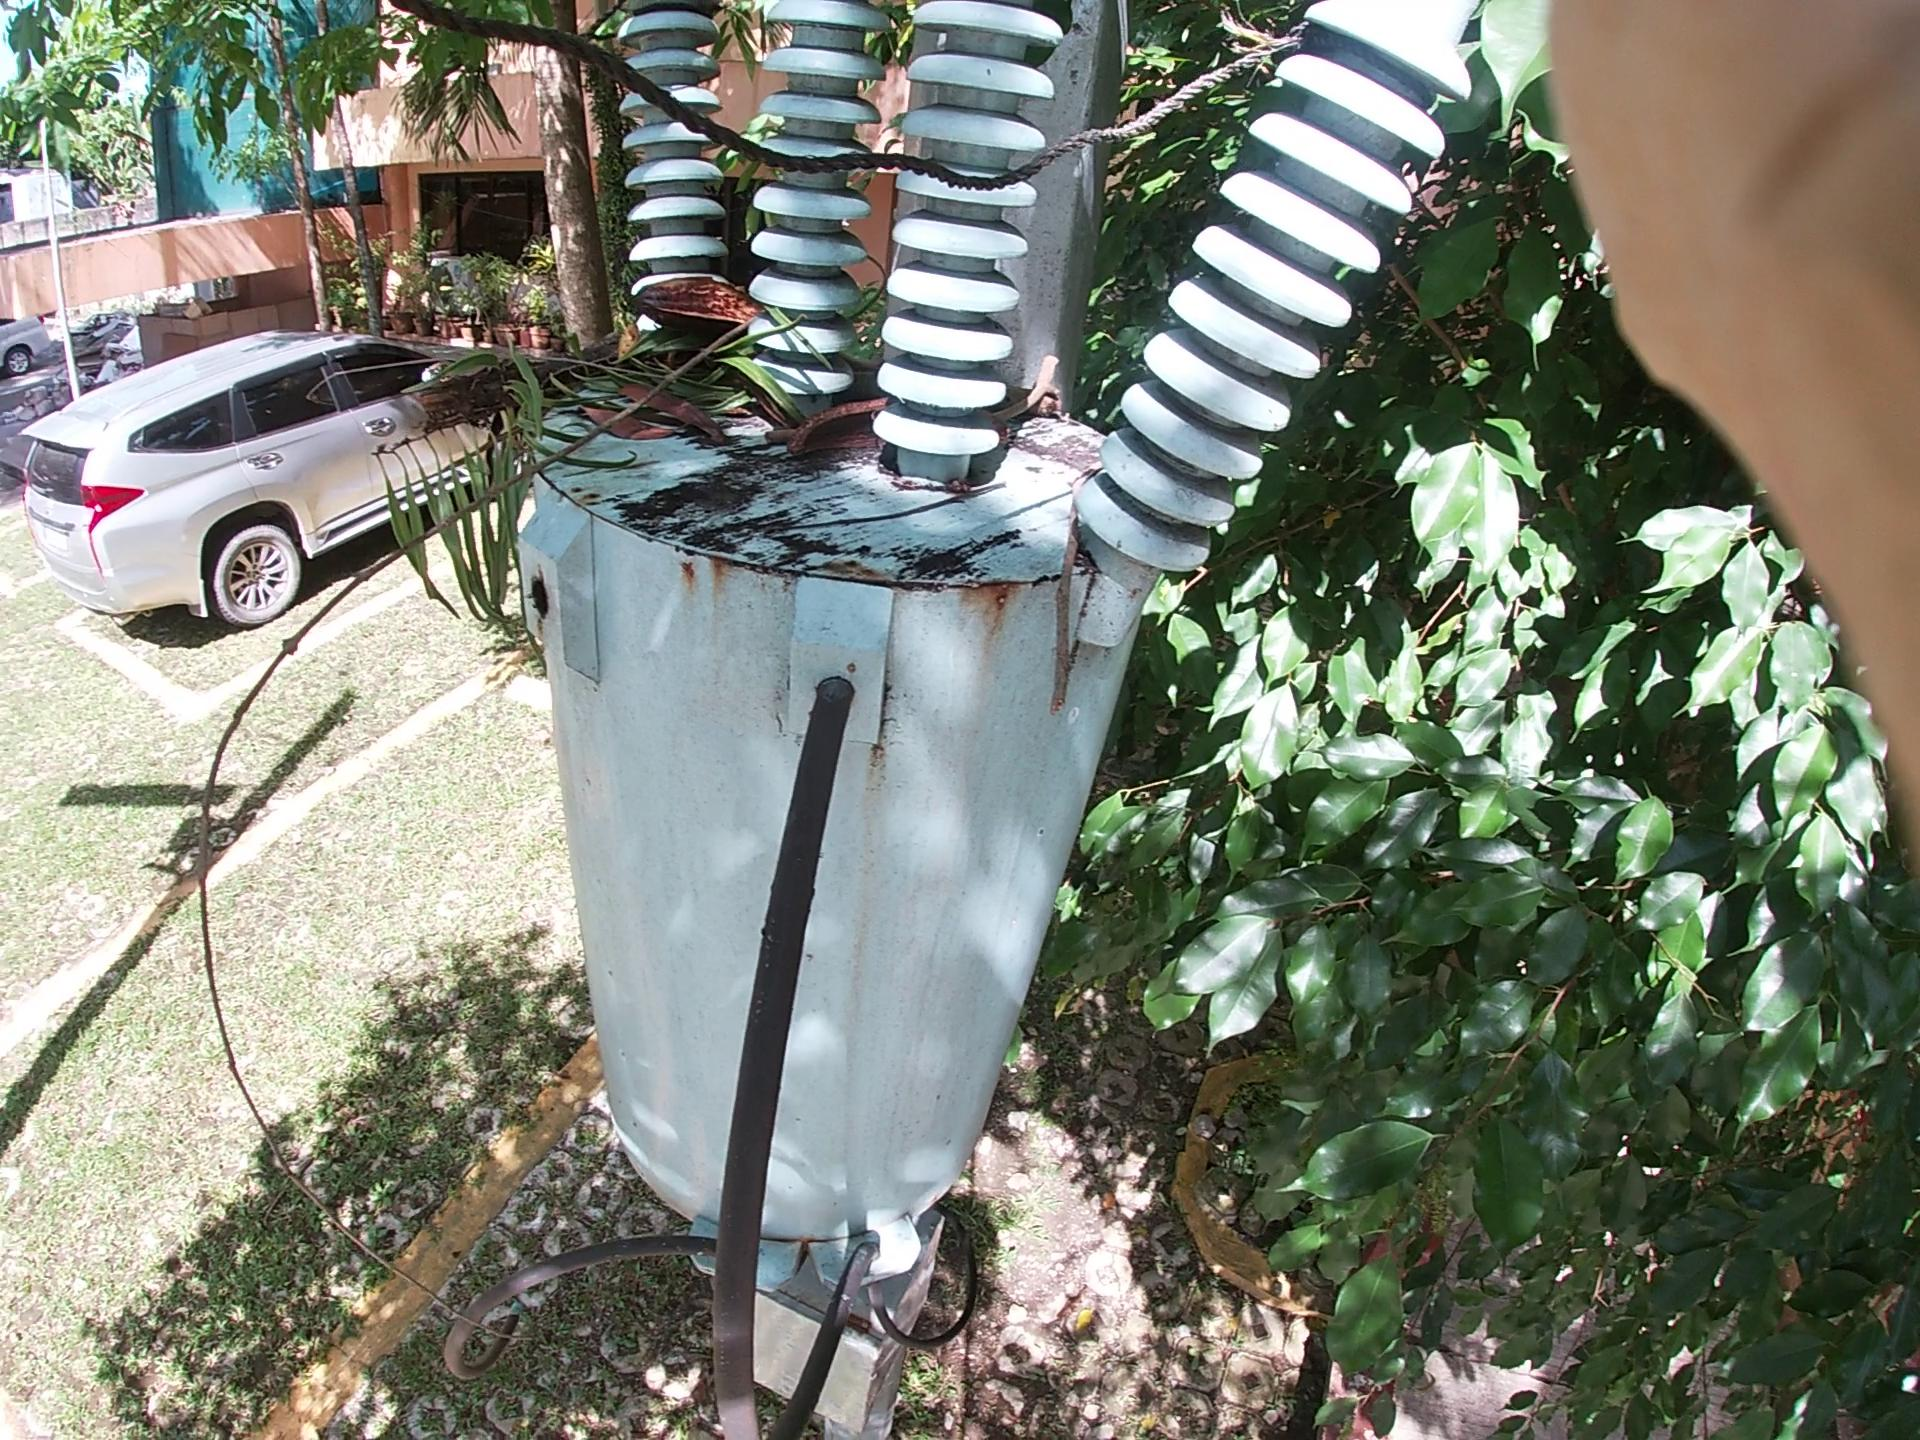branch with leaves: (399, 309, 848, 513)
leaf: (570, 362, 720, 476)
mahogany fruit: (768, 352, 931, 511), (627, 244, 777, 352)
tree branch: (60, 296, 822, 871), (1020, 180, 1123, 744), (677, 402, 1120, 529)
